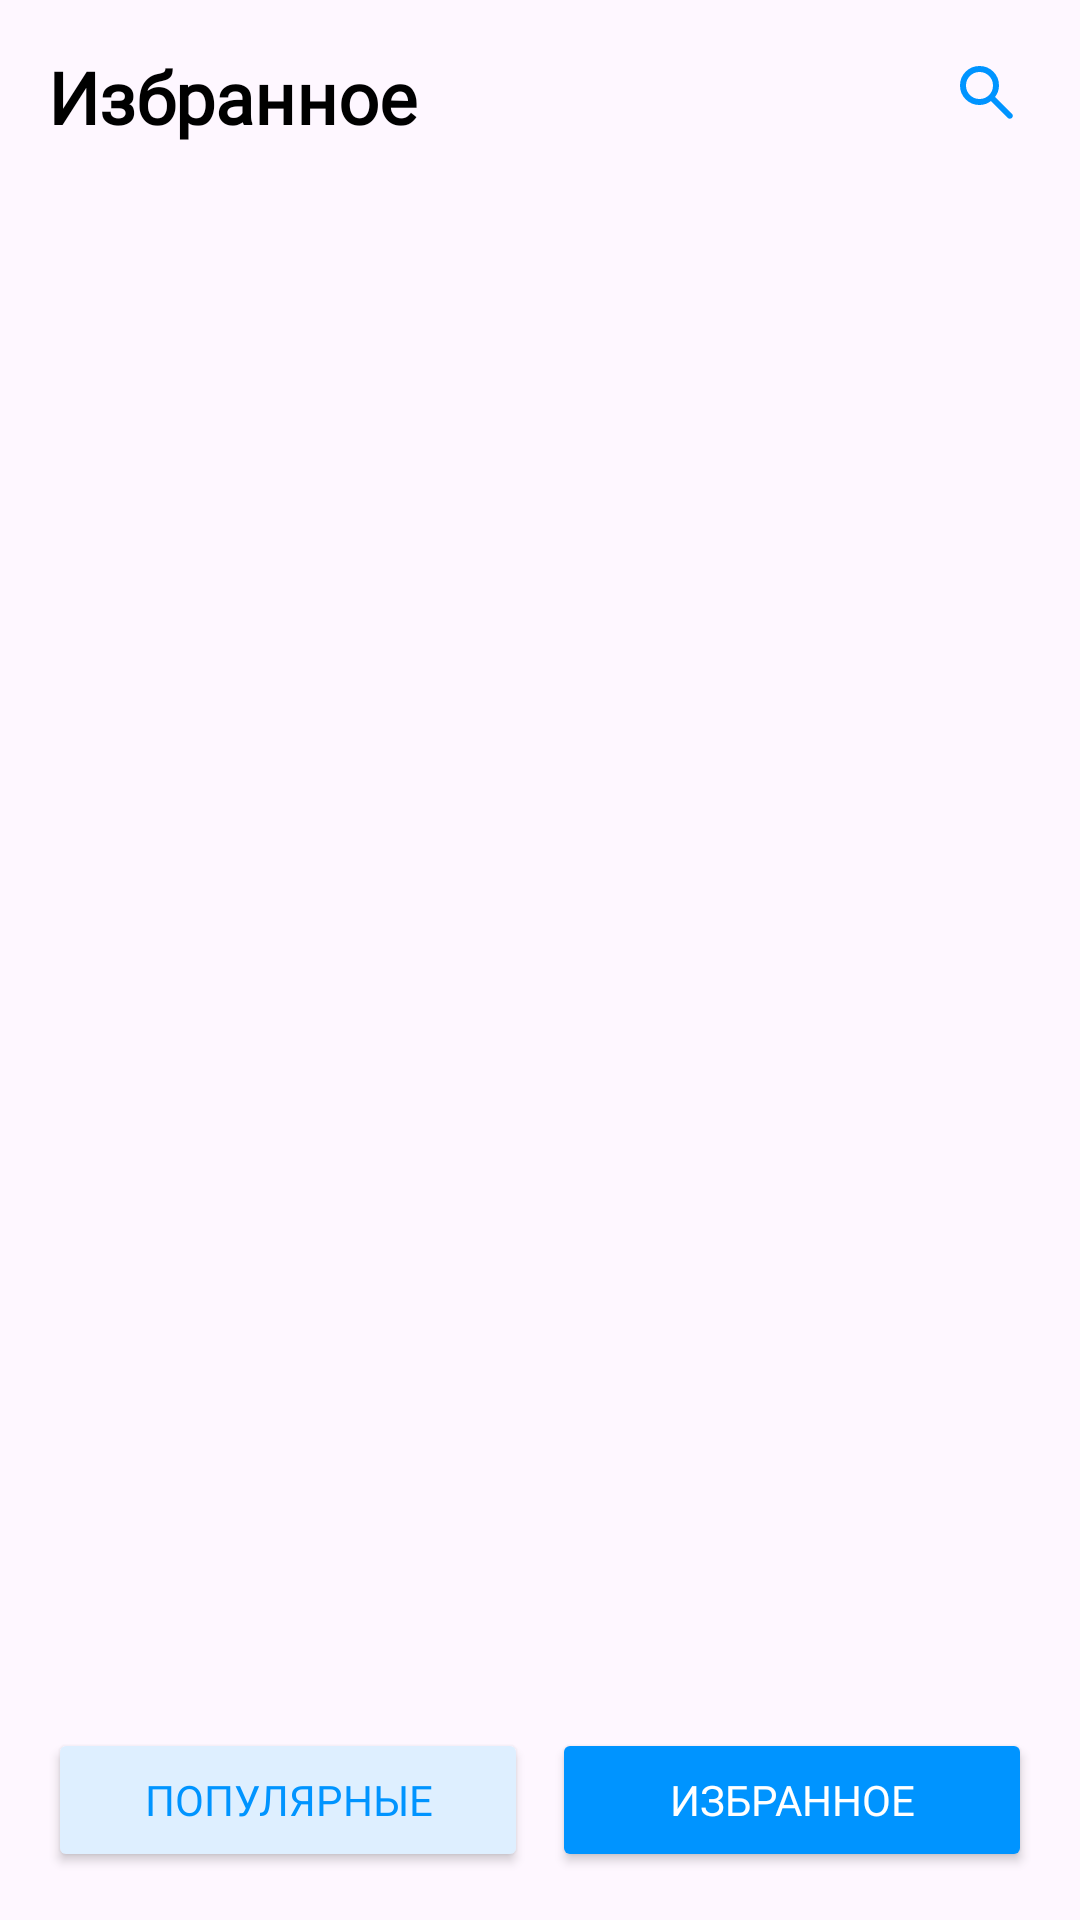

Locate icon controls on the screen. Image size 1080px x 1920px, boxes as (x1, y1, x2, y2).
search icon: (960, 66, 1013, 119)
